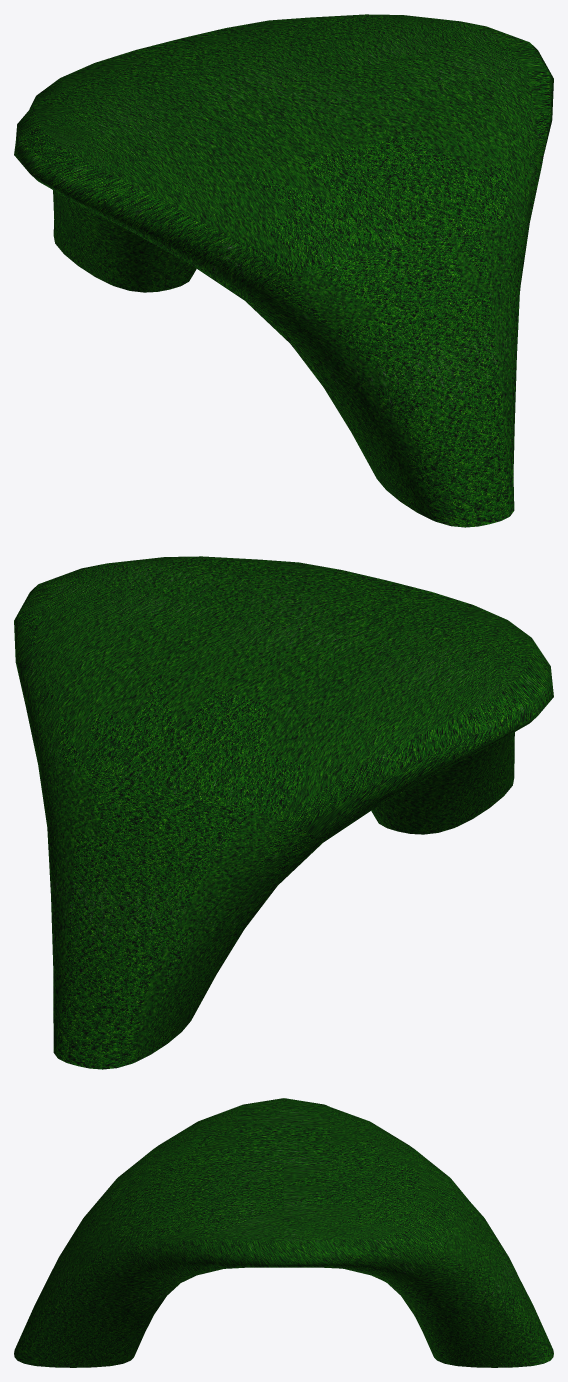
The model's file is grassarch.fbx.
3 renders of one model, top to bottom at view 1: azimuth 30°, elevation 25°; view 2: azimuth 150°, elevation 25°; view 3: azimuth 270°, elevation 25°, orthographic. The views are drawn at different scales.
Visible parts, largest first — view 1: grassarch; view 2: grassarch; view 3: grassarch.
Boxes of the visible parts, bbox=[...] form: grassarch: bbox=[14, 14, 553, 527]; grassarch: bbox=[14, 556, 553, 1069]; grassarch: bbox=[14, 1098, 553, 1367].
Size of the model in its own units: 1.82 by 0.9897 by 2.56.
